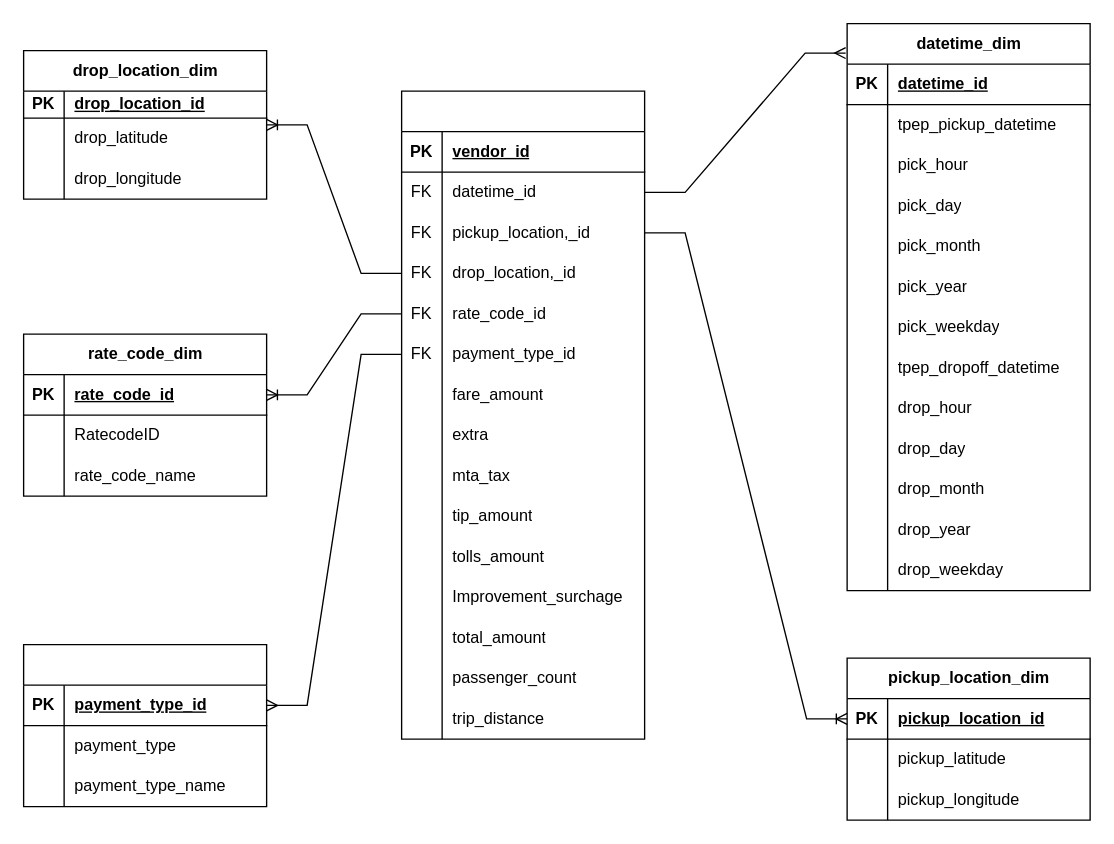
The diagram is 1114 pixels wide and 844 high, and some of its shapes have lost their labels. The box of each missing label's shape, as (x1, y1, x2, y2) in pixels:
fact_table: (400, 90, 645, 739)
payment_type_dim: (22, 643, 267, 807)
